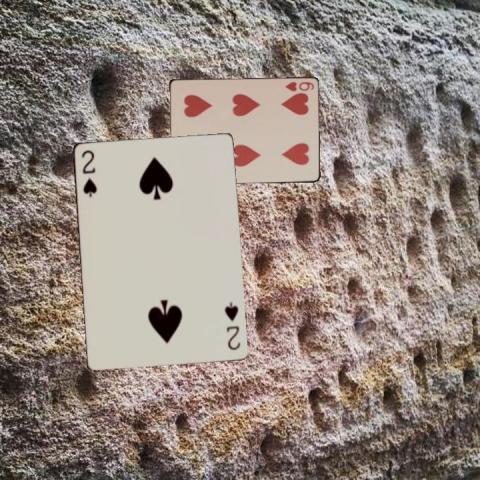2s: (78, 146, 98, 198), (221, 300, 241, 351)
6h: (282, 78, 315, 92)
